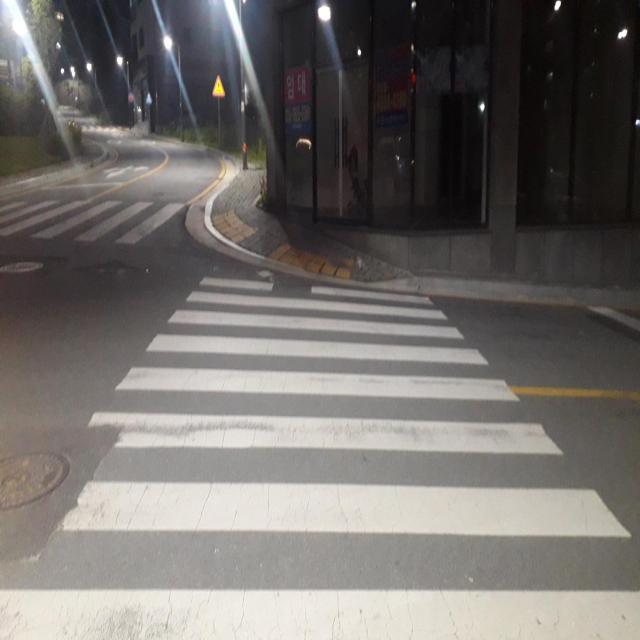횡단보도: (0, 265, 640, 640), (0, 198, 194, 242)
